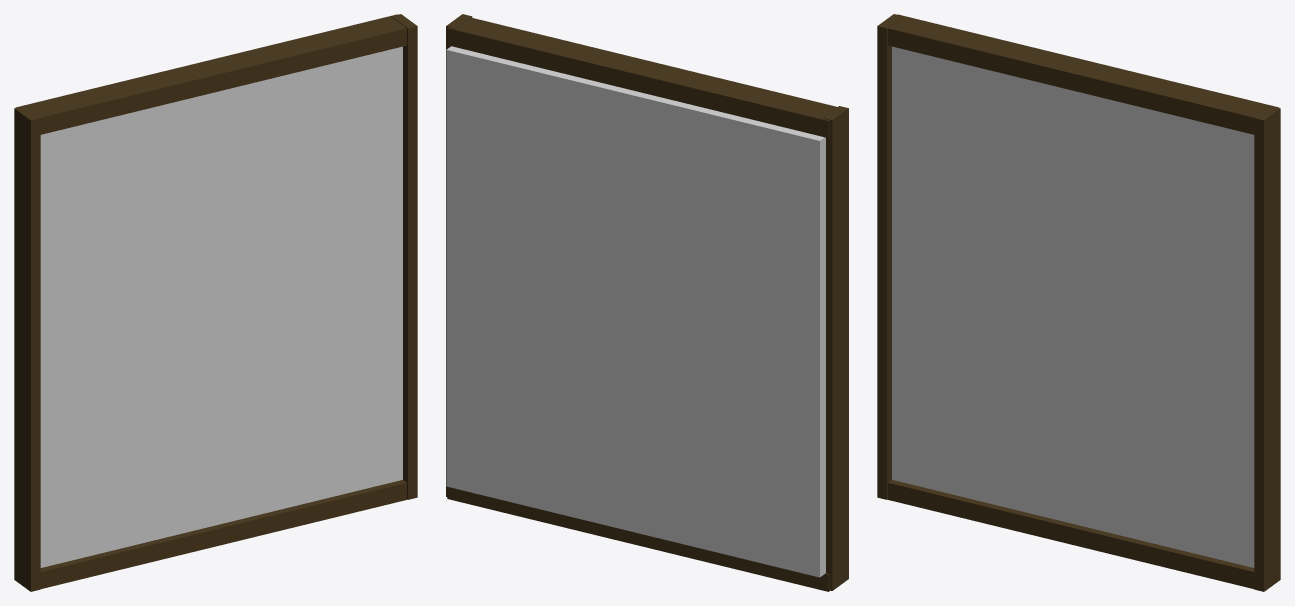
The model's file is Cuadro sin dibujo 2.fbx.
3 renders of one model, left to right at view 1: azimuth 30°, elevation 25°; view 2: azimuth 150°, elevation 25°; view 3: azimuth 330°, elevation 25°, orthographic.
Visible parts, largest first — view 1: Cuadro sin dibujo 2; view 2: Cuadro sin dibujo 2; view 3: Cuadro sin dibujo 2.
Part boxes in pixels (box(x1,y1,x2,y2)): Cuadro sin dibujo 2: box(14, 14, 417, 591); Cuadro sin dibujo 2: box(446, 14, 848, 591); Cuadro sin dibujo 2: box(877, 14, 1280, 591).
Bounding box in the file's own units: 126 × 147 × 12.82.
